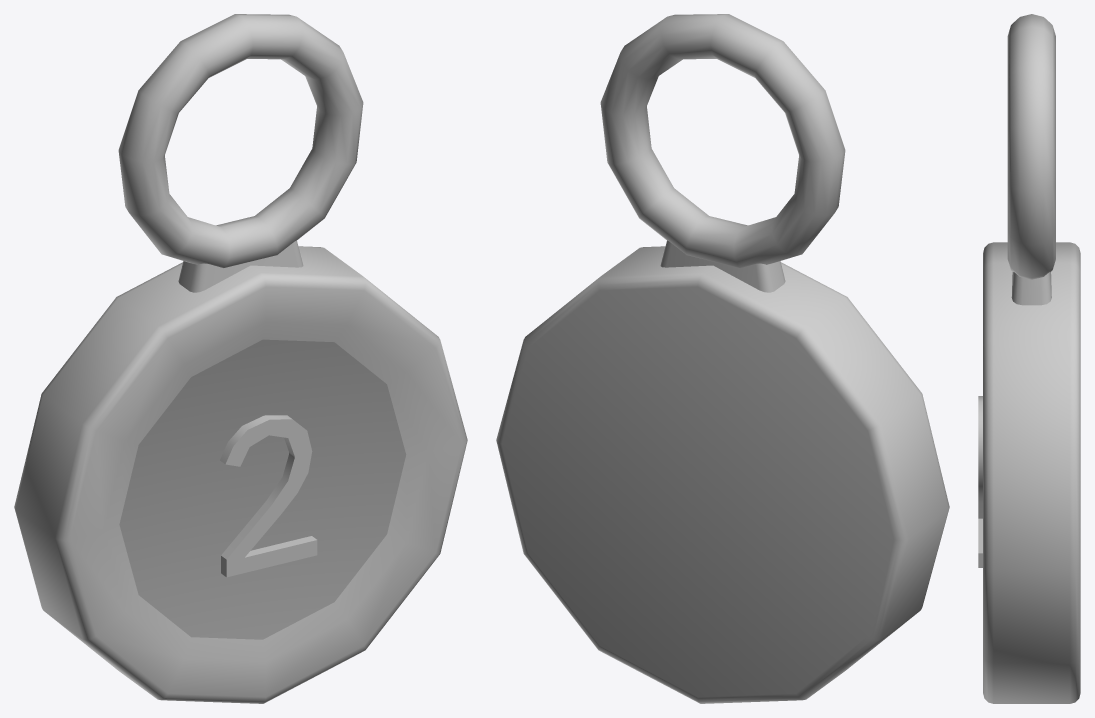
File: Medal_2.fbx
3 views of the same model, side by side, from view 1: azimuth 30°, elevation 25°; view 2: azimuth 150°, elevation 25°; view 3: azimuth 270°, elevation 25° (orthographic). The views are drawn at different scales.
Visible parts, largest first — view 1: Medal_2; view 2: Medal_2; view 3: Medal_2.
Part boxes in pixels (x1,y1,x2,y2): Medal_2: (14, 14, 467, 703); Medal_2: (496, 14, 949, 703); Medal_2: (978, 14, 1080, 703).
Size of the model in its own units: 0.1395 by 0.2181 by 0.0308.
